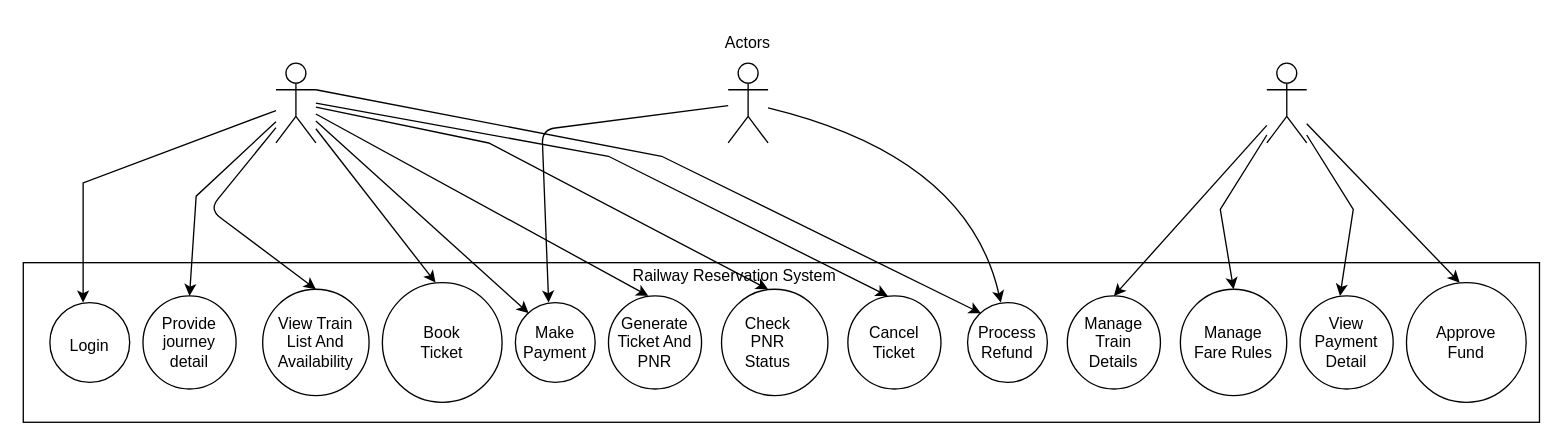
The diagram is 1563 pixels wide and 446 high, and some of its shapes have lost their labels. The centre of each missing label's shape, as x and y in pixels:
"Admin" goes at pixel 1286 102.
"Passenger" goes at pixel 295 102.
"Payment Gateway" goes at pixel 747 102.
